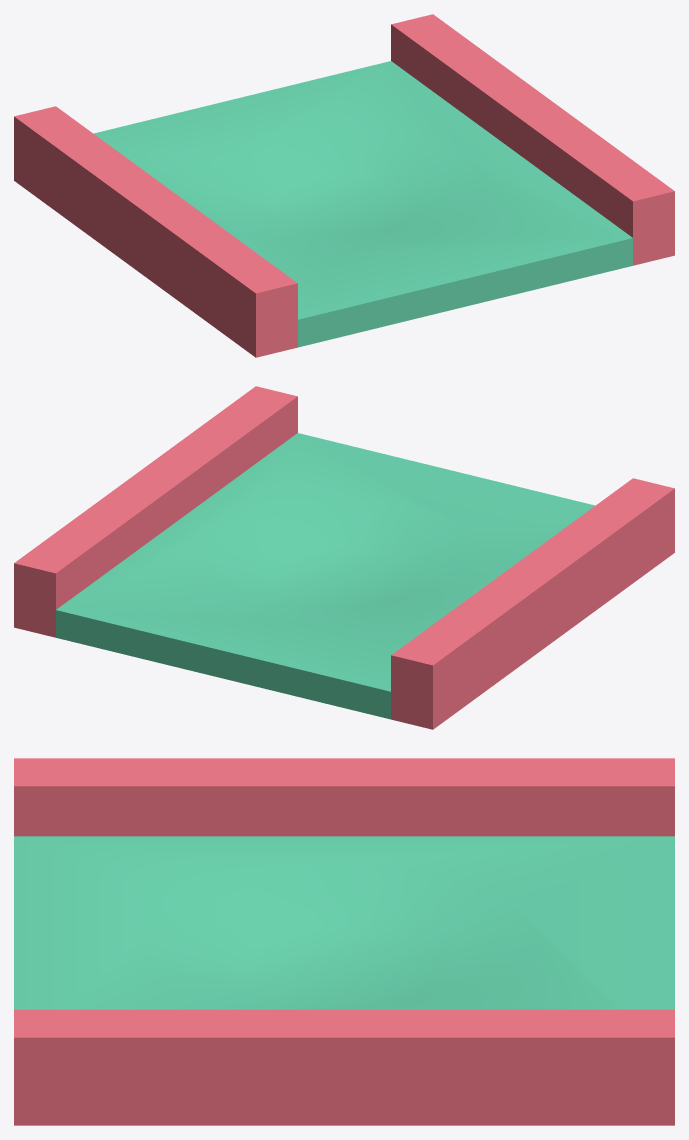
File: bumpDownWalls.glb
3 views of the same model, one above another, from view 1: azimuth 30°, elevation 25°; view 2: azimuth 150°, elevation 25°; view 3: azimuth 270°, elevation 25° (orthographic). The views are drawn at different scales.
Parts seen in each view (by area): view 1: bumpDownWalls; view 2: bumpDownWalls; view 3: bumpDownWalls.
Part boxes in pixels (x1=…): bumpDownWalls: x1=14, y1=14, x2=674, y2=357; bumpDownWalls: x1=14, y1=386, x2=674, y2=729; bumpDownWalls: x1=14, y1=758, x2=674, y2=1125.
Size of the model in its own units: 0.9999 by 0.1467 by 0.9999.
